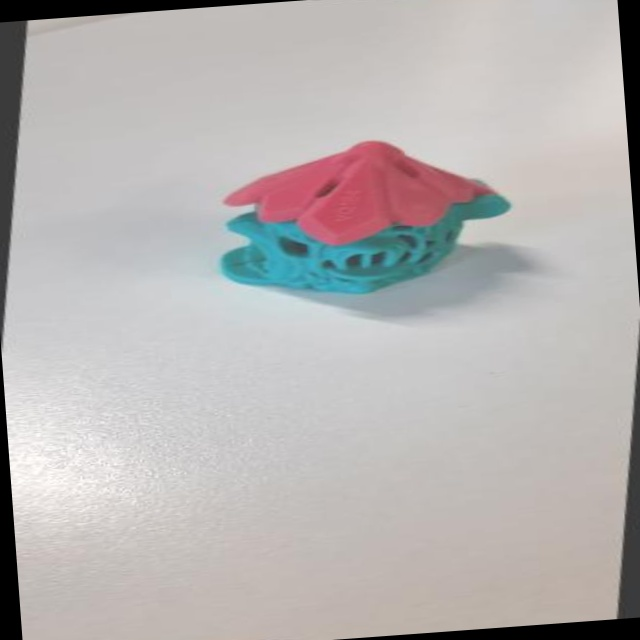House: (171, 103, 567, 361)
